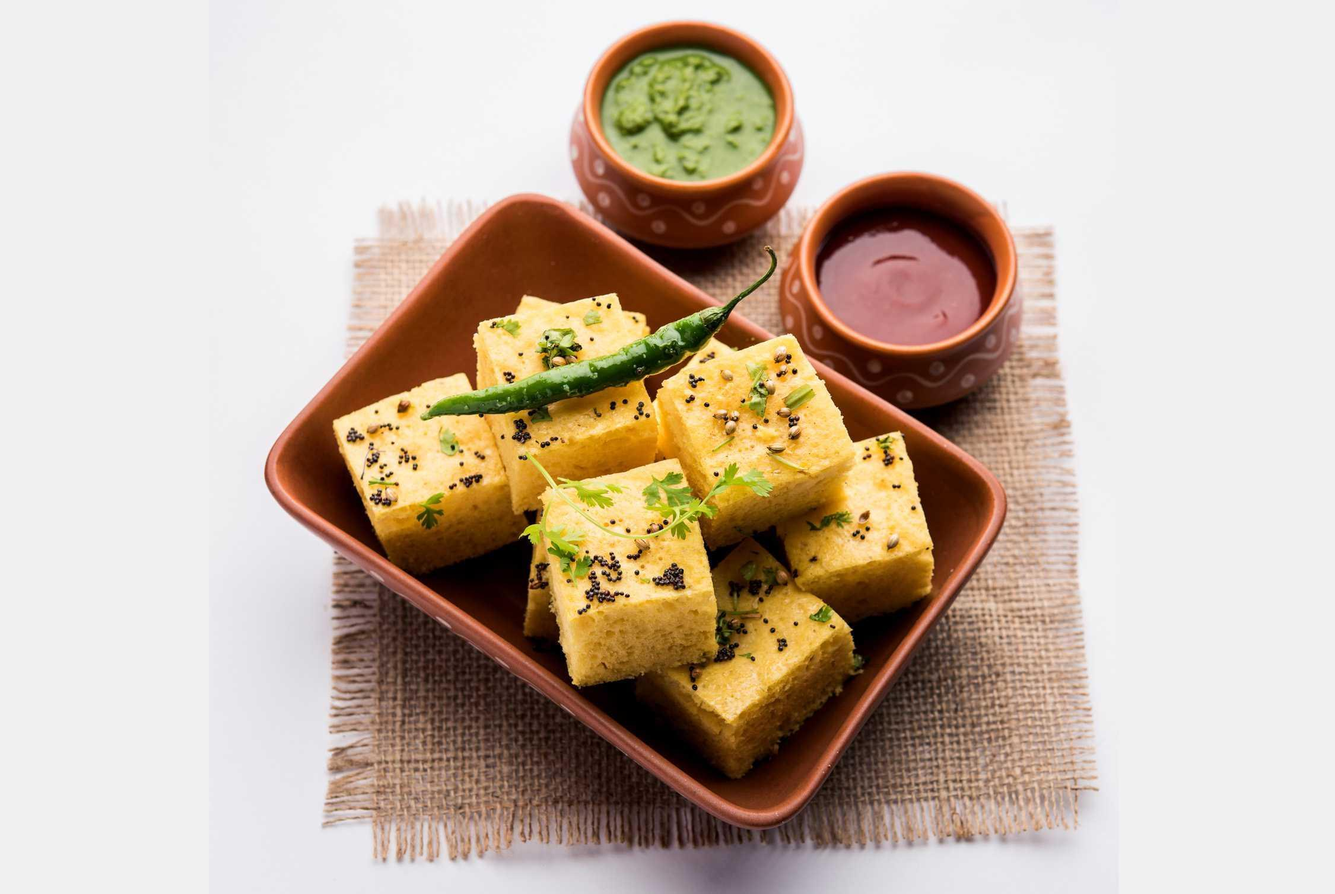dhokla: (356, 286, 932, 744)
